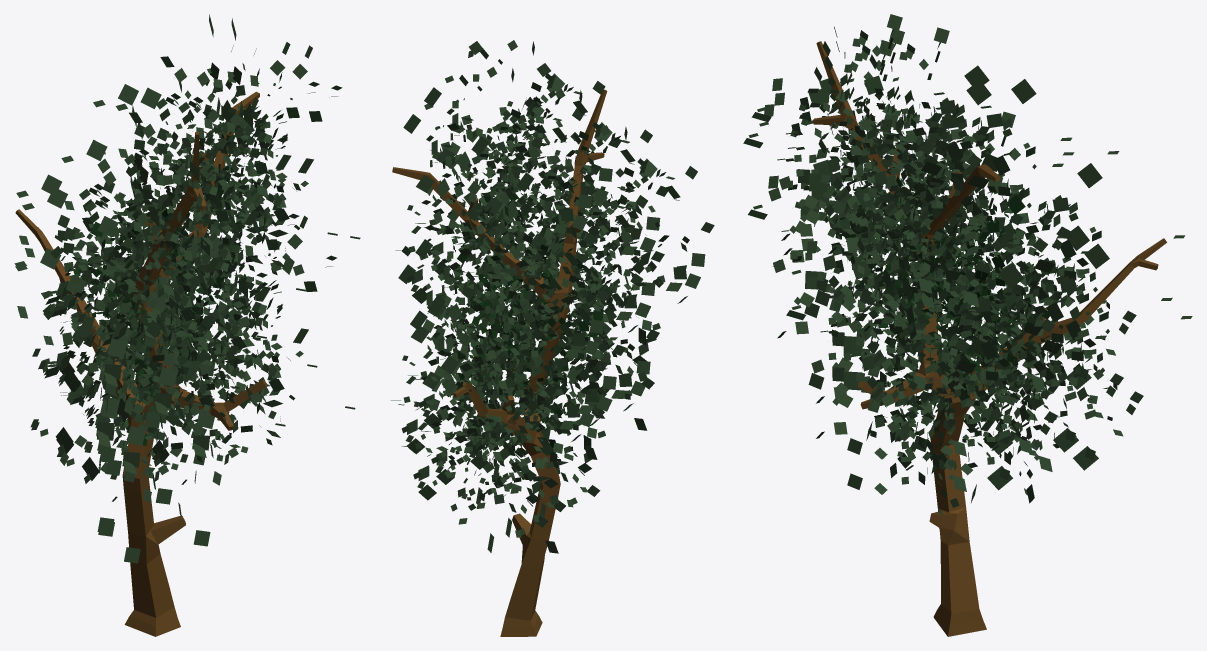
File: arbre-texture.fbx
3 renders of one model, left to right at view 1: azimuth 30°, elevation 25°; view 2: azimuth 150°, elevation 25°; view 3: azimuth 270°, elevation 25°, orthographic. The views are drawn at different scales.
Visible parts, largest first — view 1: Plane.012; view 2: Plane.012; view 3: Plane.012.
Part boxes in pixels (box(x1,y1,x2,y2)): Plane.012: box(14, 14, 360, 636); Plane.012: box(391, 40, 714, 636); Plane.012: box(743, 14, 1192, 636).
Size of the model in its own units: 622 by 1157 by 747.
